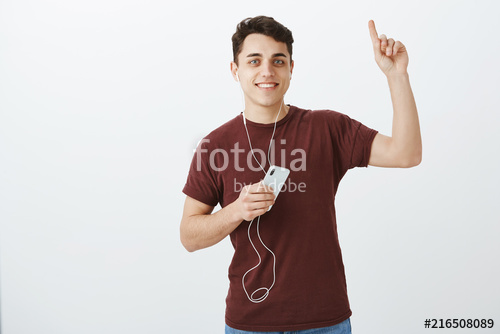move: (367, 19, 411, 75)
